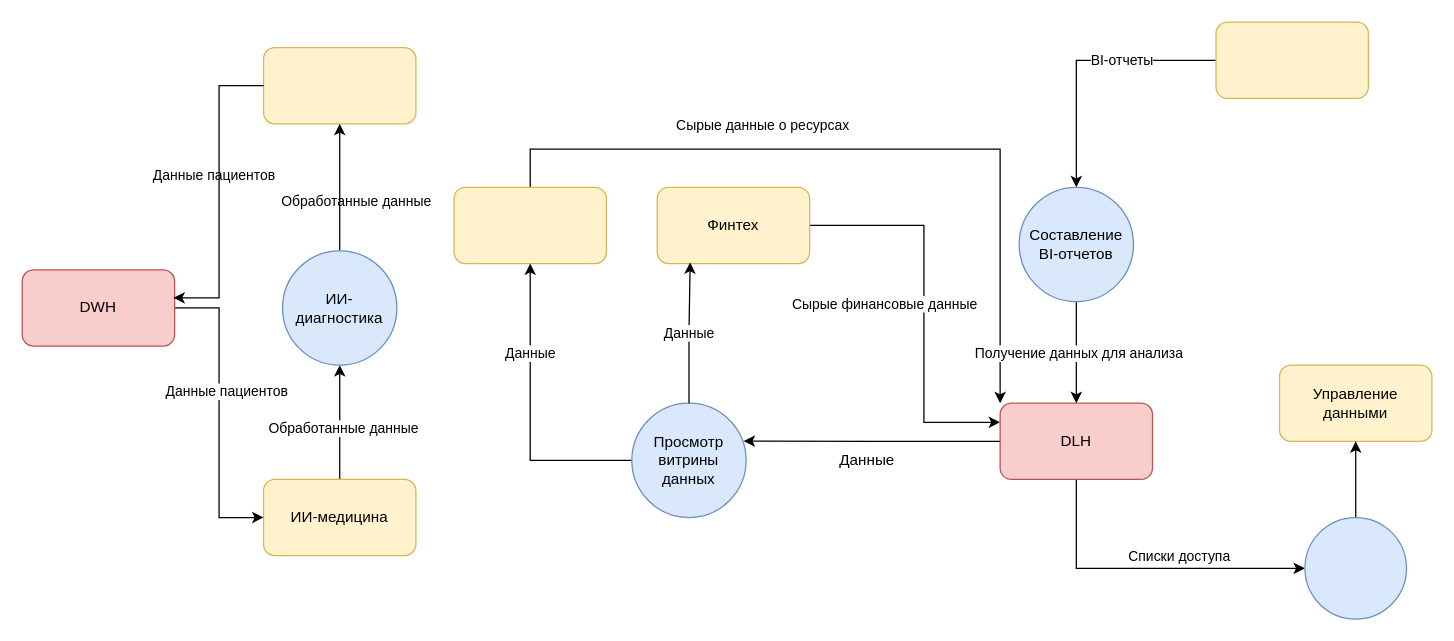
Image size: 1454x641. Some labels were removed from this diagram. Here are the shapes that lost their labels. From the top down, the box of each, then its label:
(1215, 21, 1368, 98): Аналитика
(262, 46, 416, 124): Клиентская медицина
(453, 186, 606, 264): Управление ресурсами
(1304, 516, 1407, 619): Контроль доступа к данным
